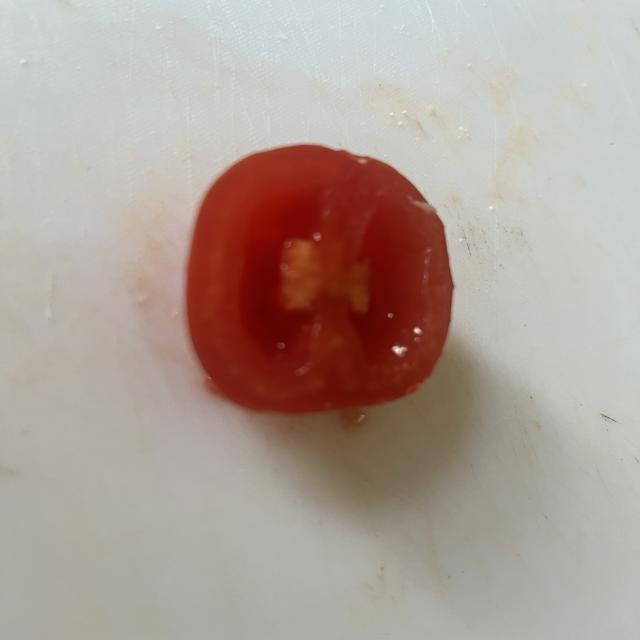sliced_tomato: (187, 145, 453, 413)
